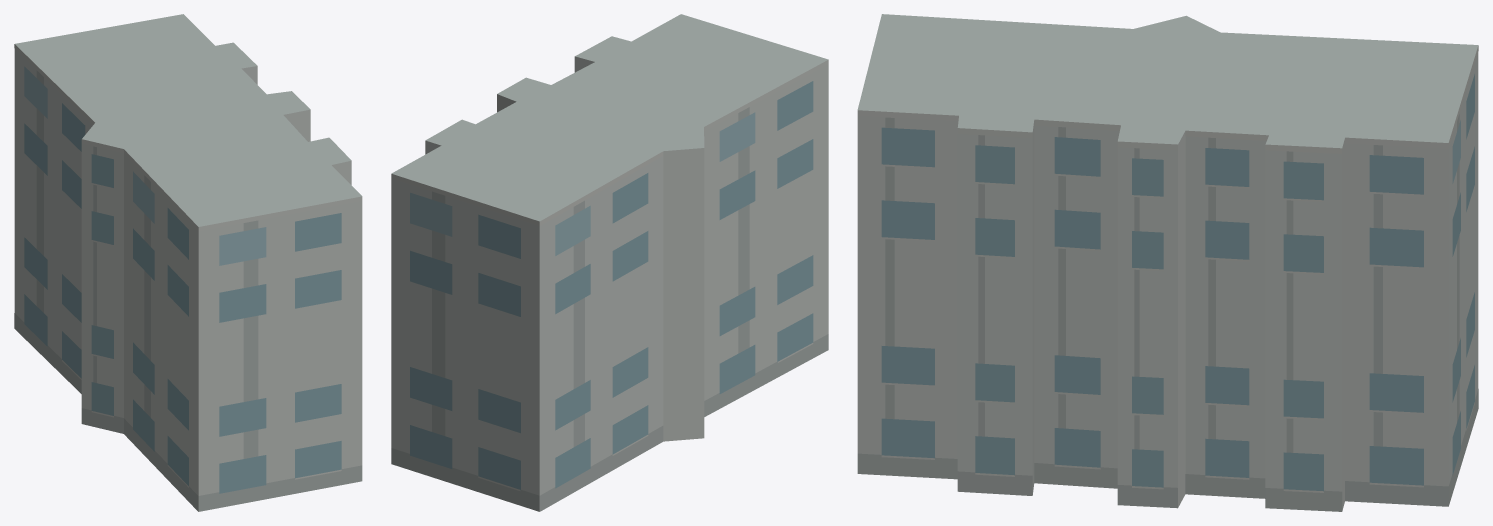
Rendered from survey-upis-32851676.glb.
The picture shows the model from 3 angles, left to right: view 1: azimuth 30°, elevation 25°; view 2: azimuth 150°, elevation 25°; view 3: azimuth 270°, elevation 25°; orthographic projection. The views are drawn at different scales.
Visible parts, largest first — view 1: survey-upis-32851676.tmp; view 2: survey-upis-32851676.tmp; view 3: survey-upis-32851676.tmp.
Part boxes in pixels (x1=…): survey-upis-32851676.tmp: x1=14, y1=14, x2=362, y2=511; survey-upis-32851676.tmp: x1=391, y1=14, x2=828, y2=511; survey-upis-32851676.tmp: x1=857, y1=14, x2=1478, y2=511.
Bounding box in the file's own units: 12.08 × 15.25 × 23.61.
